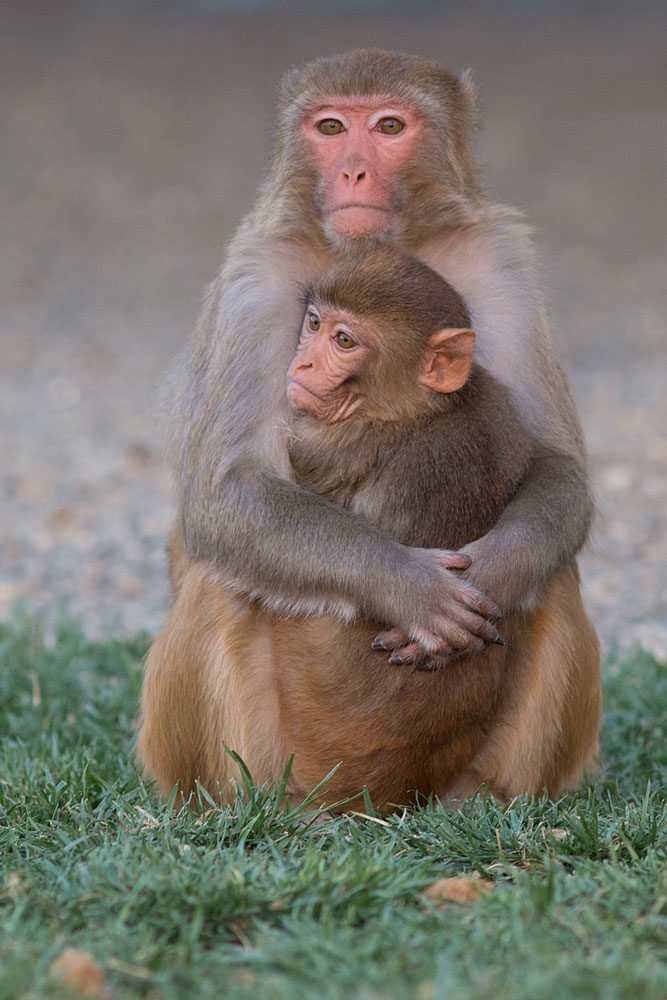monkey: (144, 46, 624, 849), (159, 273, 591, 854)
